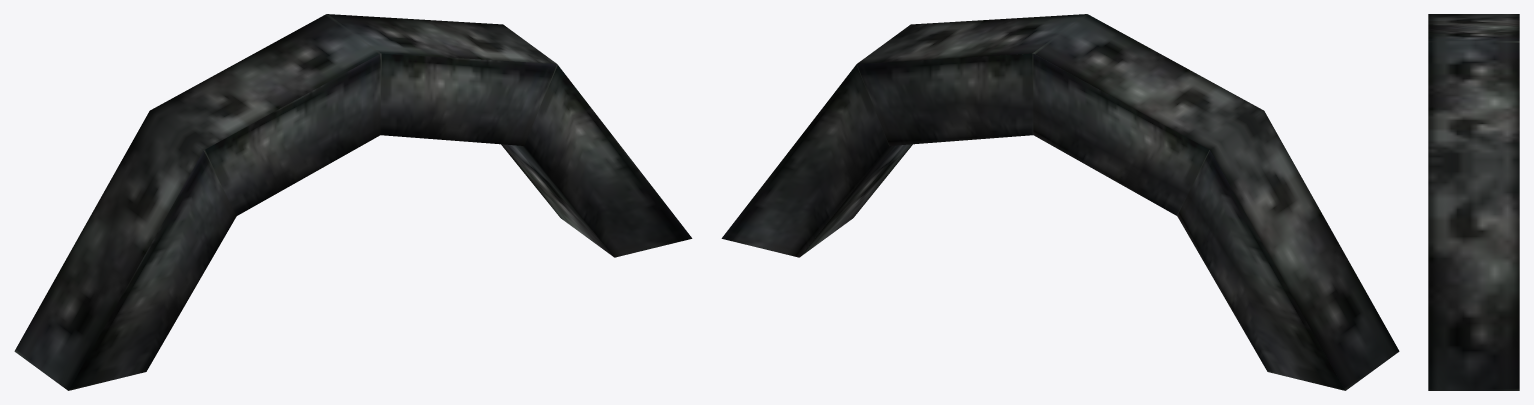
File: OC_LOB_CHAIN_ALONE.glb
The picture shows the model from 3 angles, left to right: view 1: azimuth 30°, elevation 25°; view 2: azimuth 150°, elevation 25°; view 3: azimuth 270°, elevation 25°; orthographic projection. The views are drawn at different scales.
Parts seen in each view (by area): view 1: Mesh; view 2: Mesh; view 3: Mesh.
Boxes of the visible parts, x1,y1,x2,y2 form: Mesh: (14, 14, 692, 390); Mesh: (721, 14, 1399, 390); Mesh: (1428, 14, 1519, 390).
Bounding box in the file's own units: 0.4 × 0.16 × 0.06.
1 material, 1 textured.
